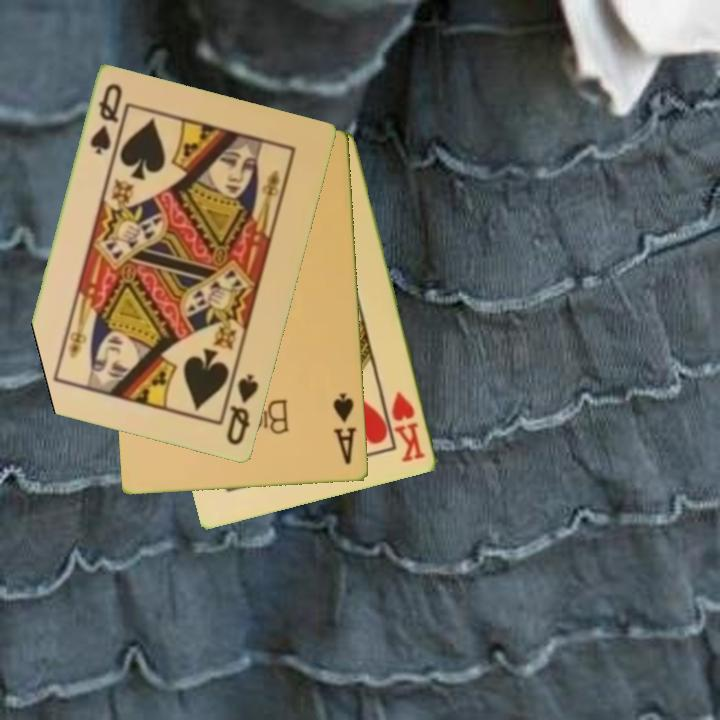As: (330, 390, 360, 468)
Kh: (388, 388, 429, 466)
Qs: (86, 80, 126, 159), (223, 371, 262, 449)
